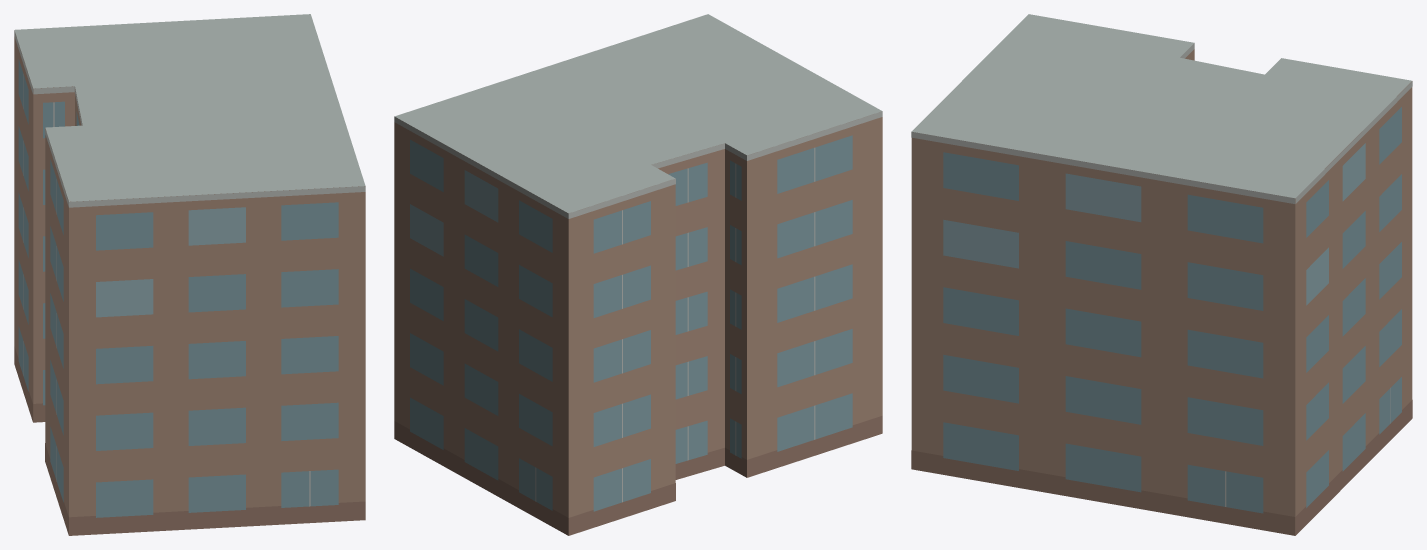
The model's file is survey-upis-32983127.glb.
3 views of the same model, side by side, from view 1: azimuth 30°, elevation 25°; view 2: azimuth 150°, elevation 25°; view 3: azimuth 270°, elevation 25° (orthographic). The views are drawn at different scales.
Parts seen in each view (by area): view 1: survey-upis-32983127.tmp; view 2: survey-upis-32983127.tmp; view 3: survey-upis-32983127.tmp.
Boxes of the visible parts, x1=… form: survey-upis-32983127.tmp: x1=14, y1=14, x2=365, y2=535; survey-upis-32983127.tmp: x1=394, y1=14, x2=882, y2=535; survey-upis-32983127.tmp: x1=911, y1=14, x2=1412, y2=535.
Size of the model in its own units: 16.29 by 13.9 by 18.71.
